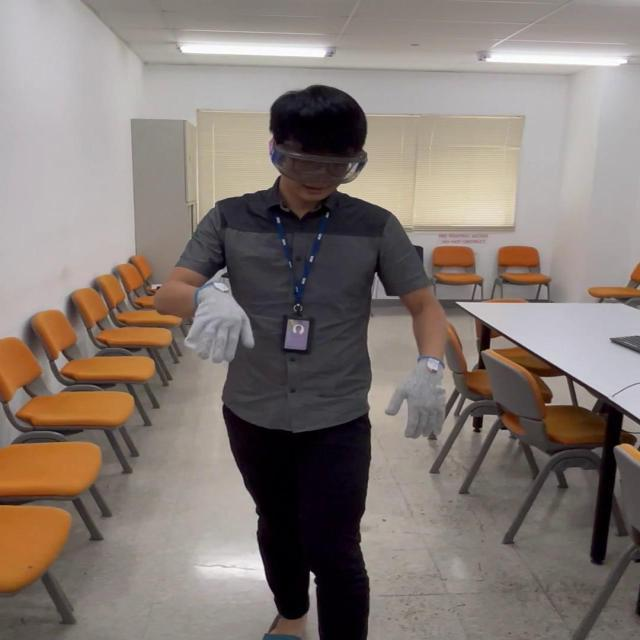gloved_hand: (179, 282, 254, 362), (391, 354, 457, 438)
